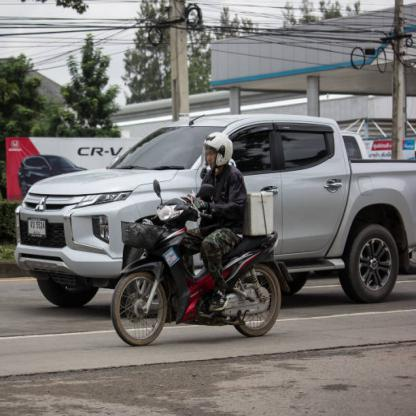Motorcycle: (98, 190, 287, 343)
